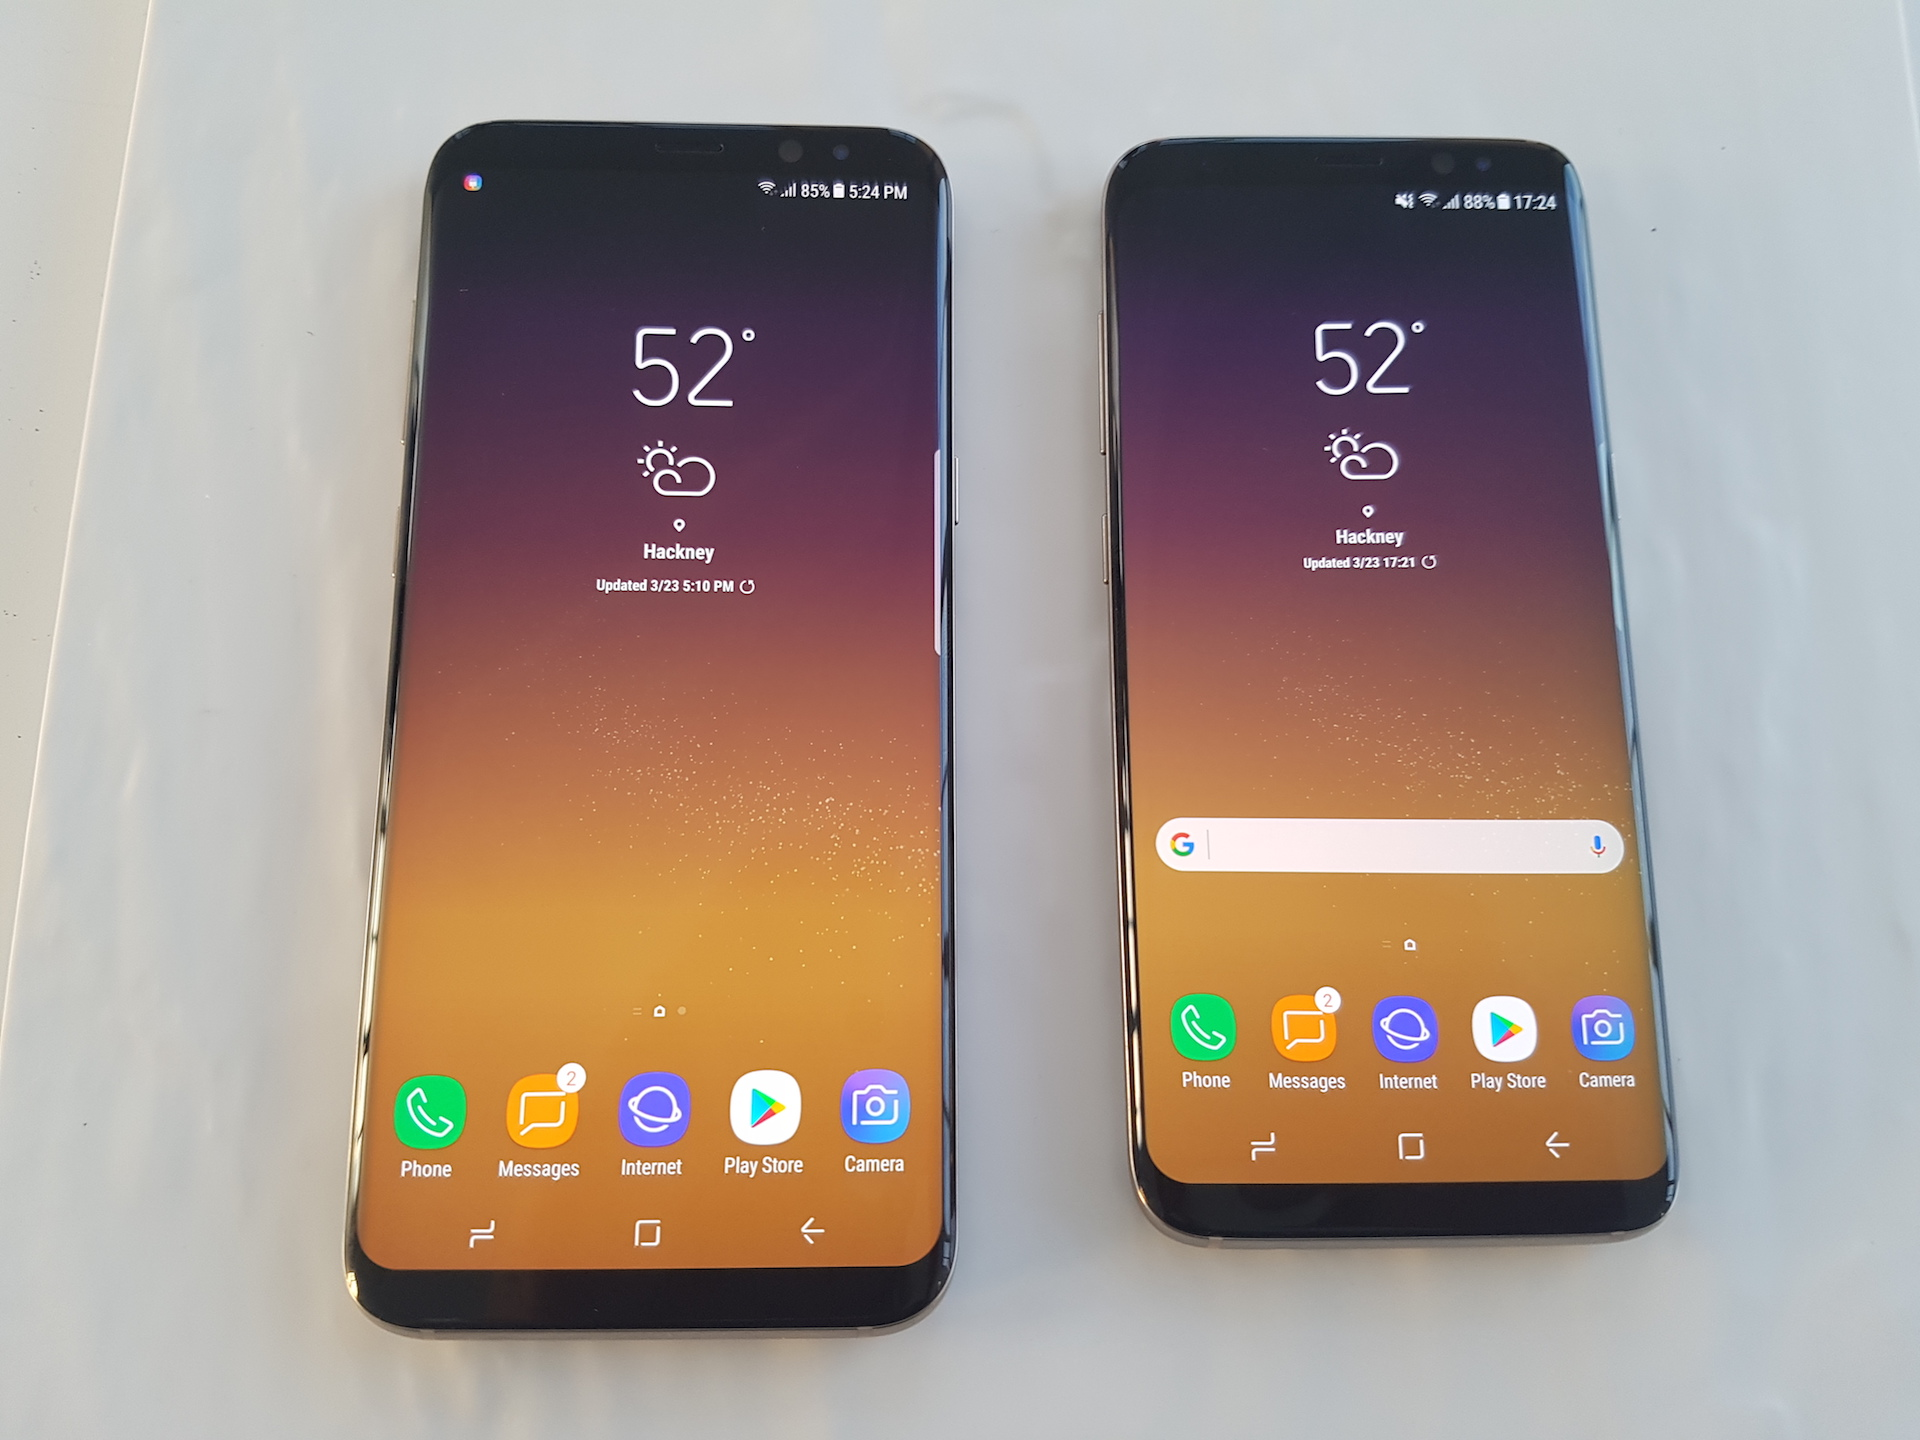smartphone: (336, 116, 960, 1342), (1099, 135, 1687, 1255)
